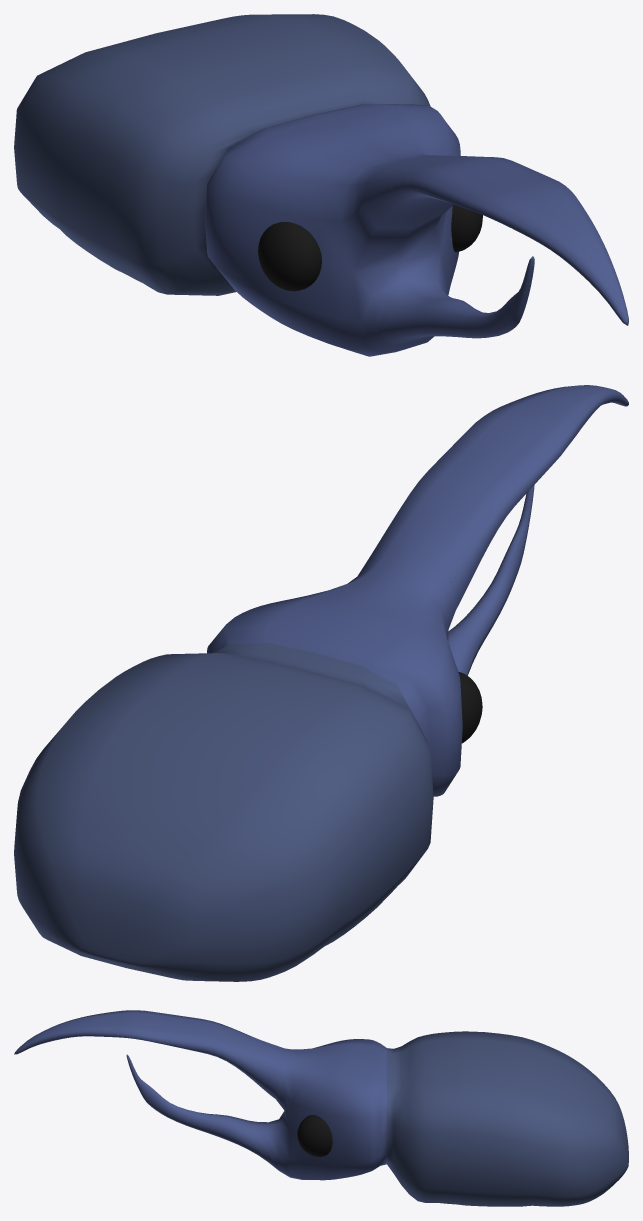
The model's file is Besouro.fbx.
3 renders of one model, top to bottom at view 1: azimuth 30°, elevation 25°; view 2: azimuth 150°, elevation 25°; view 3: azimuth 270°, elevation 25°, orthographic. The views are drawn at different scales.
Visible parts, largest first — view 1: Sphere; view 2: Sphere; view 3: Sphere.
Part boxes in pixels (bbox=[...]): Sphere: bbox=[14, 14, 628, 356]; Sphere: bbox=[14, 385, 628, 981]; Sphere: bbox=[14, 1010, 628, 1206].
Bounding box in the file's own units: 652 × 517 × 1815.
Materials: 1 (1 with a texture image).
